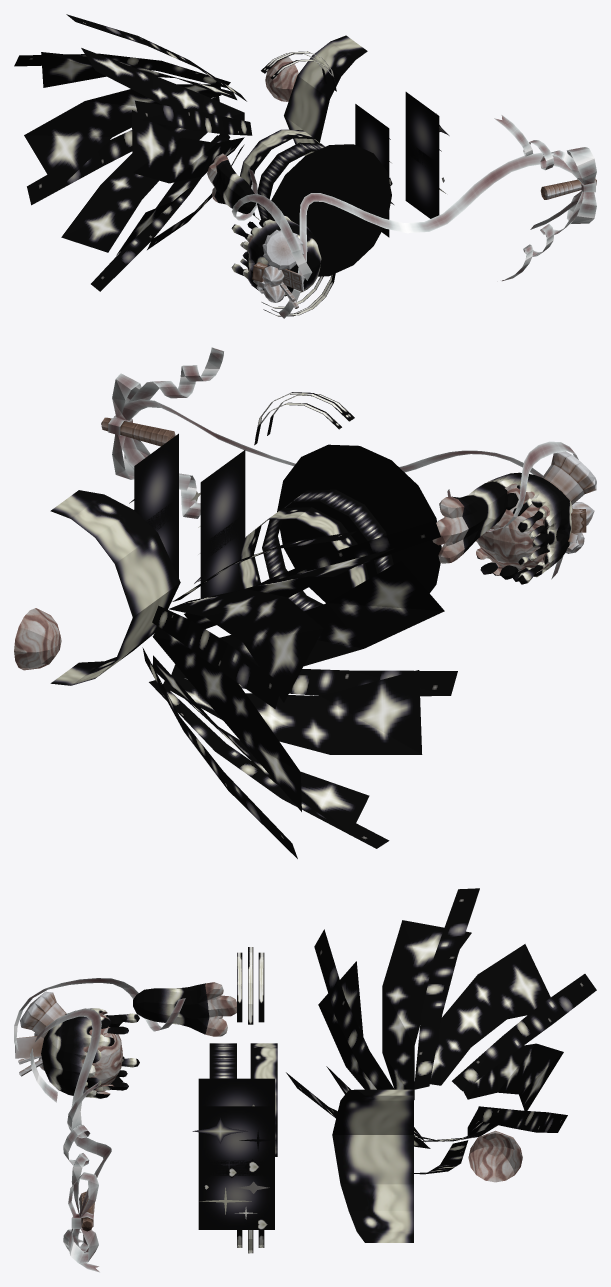
The picture shows the model from 3 angles, top to bottom: view 1: azimuth 30°, elevation 25°; view 2: azimuth 150°, elevation 25°; view 3: azimuth 270°, elevation 25°; orthographic projection. The views are drawn at different scales.
Parts seen in each view (by area): view 1: B_0102_1, B_0102_0; view 2: B_0102_1, B_0102_0; view 3: B_0102_1, B_0102_0.
Boxes of the visible parts, box(x1,y1,x2,y2) form: B_0102_1: box(14, 14, 449, 316); B_0102_0: box(207, 57, 596, 318); B_0102_1: box(50, 392, 572, 858); B_0102_0: box(14, 347, 596, 670); B_0102_1: box(41, 888, 596, 1253); B_0102_0: box(14, 978, 522, 1272).
Size of the model in its own units: 31.18 by 21.6 by 38.54.
Materials: 2 (2 with a texture image).
